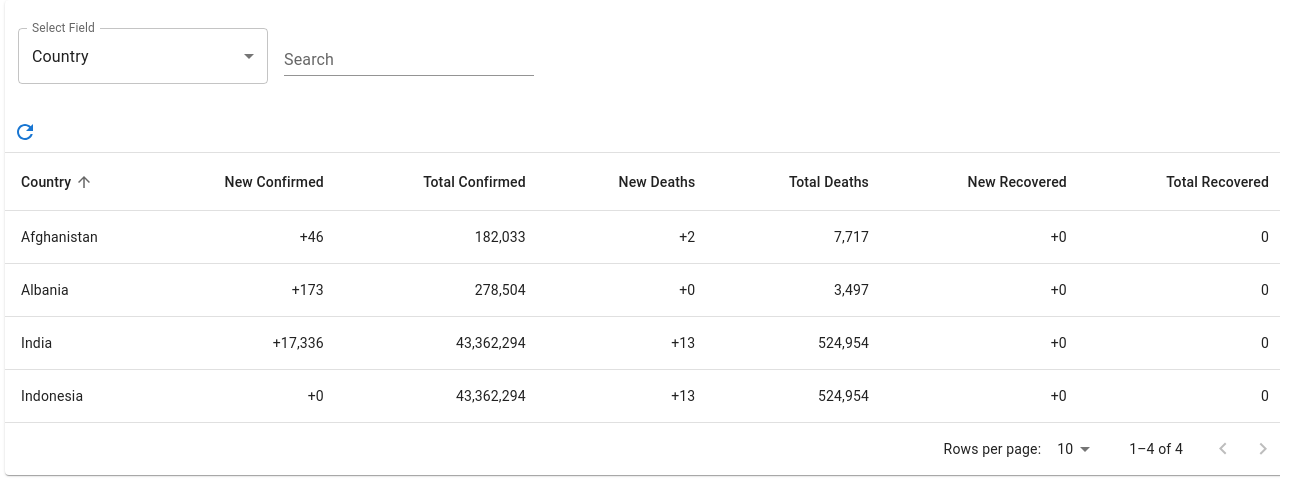
Test: Covid Table › should sort the "NewConfirmed" in "asc" order and the first item after sort should be "+0"
Click the button with test id "NewConfirmed" at (274, 182), box [225, 174, 324, 190]
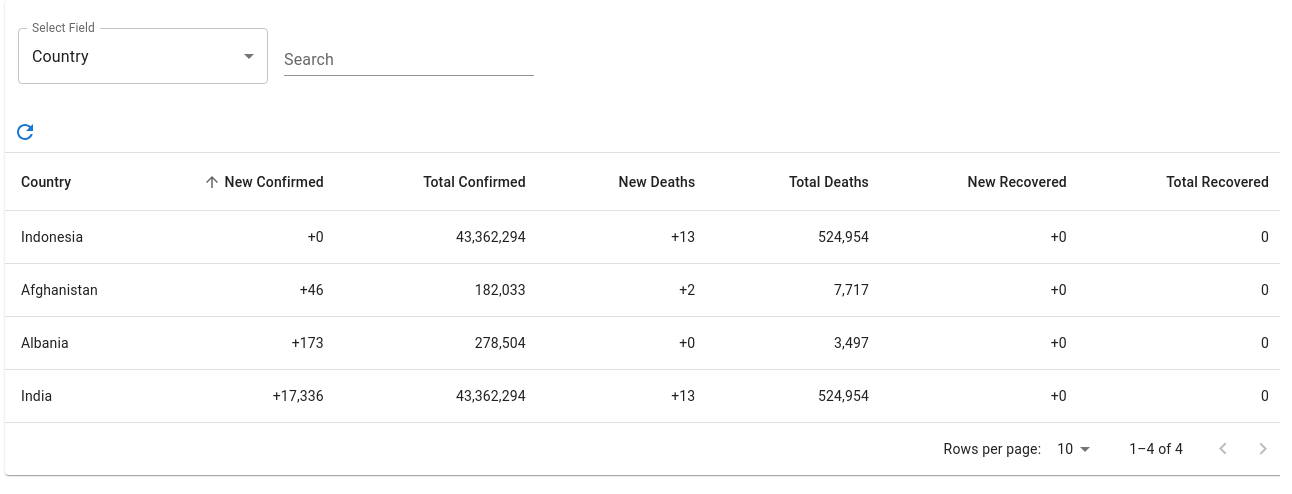
Expected: the 1st cell with test id "new-confirmed" reads "+0", [142, 211, 340, 264]
